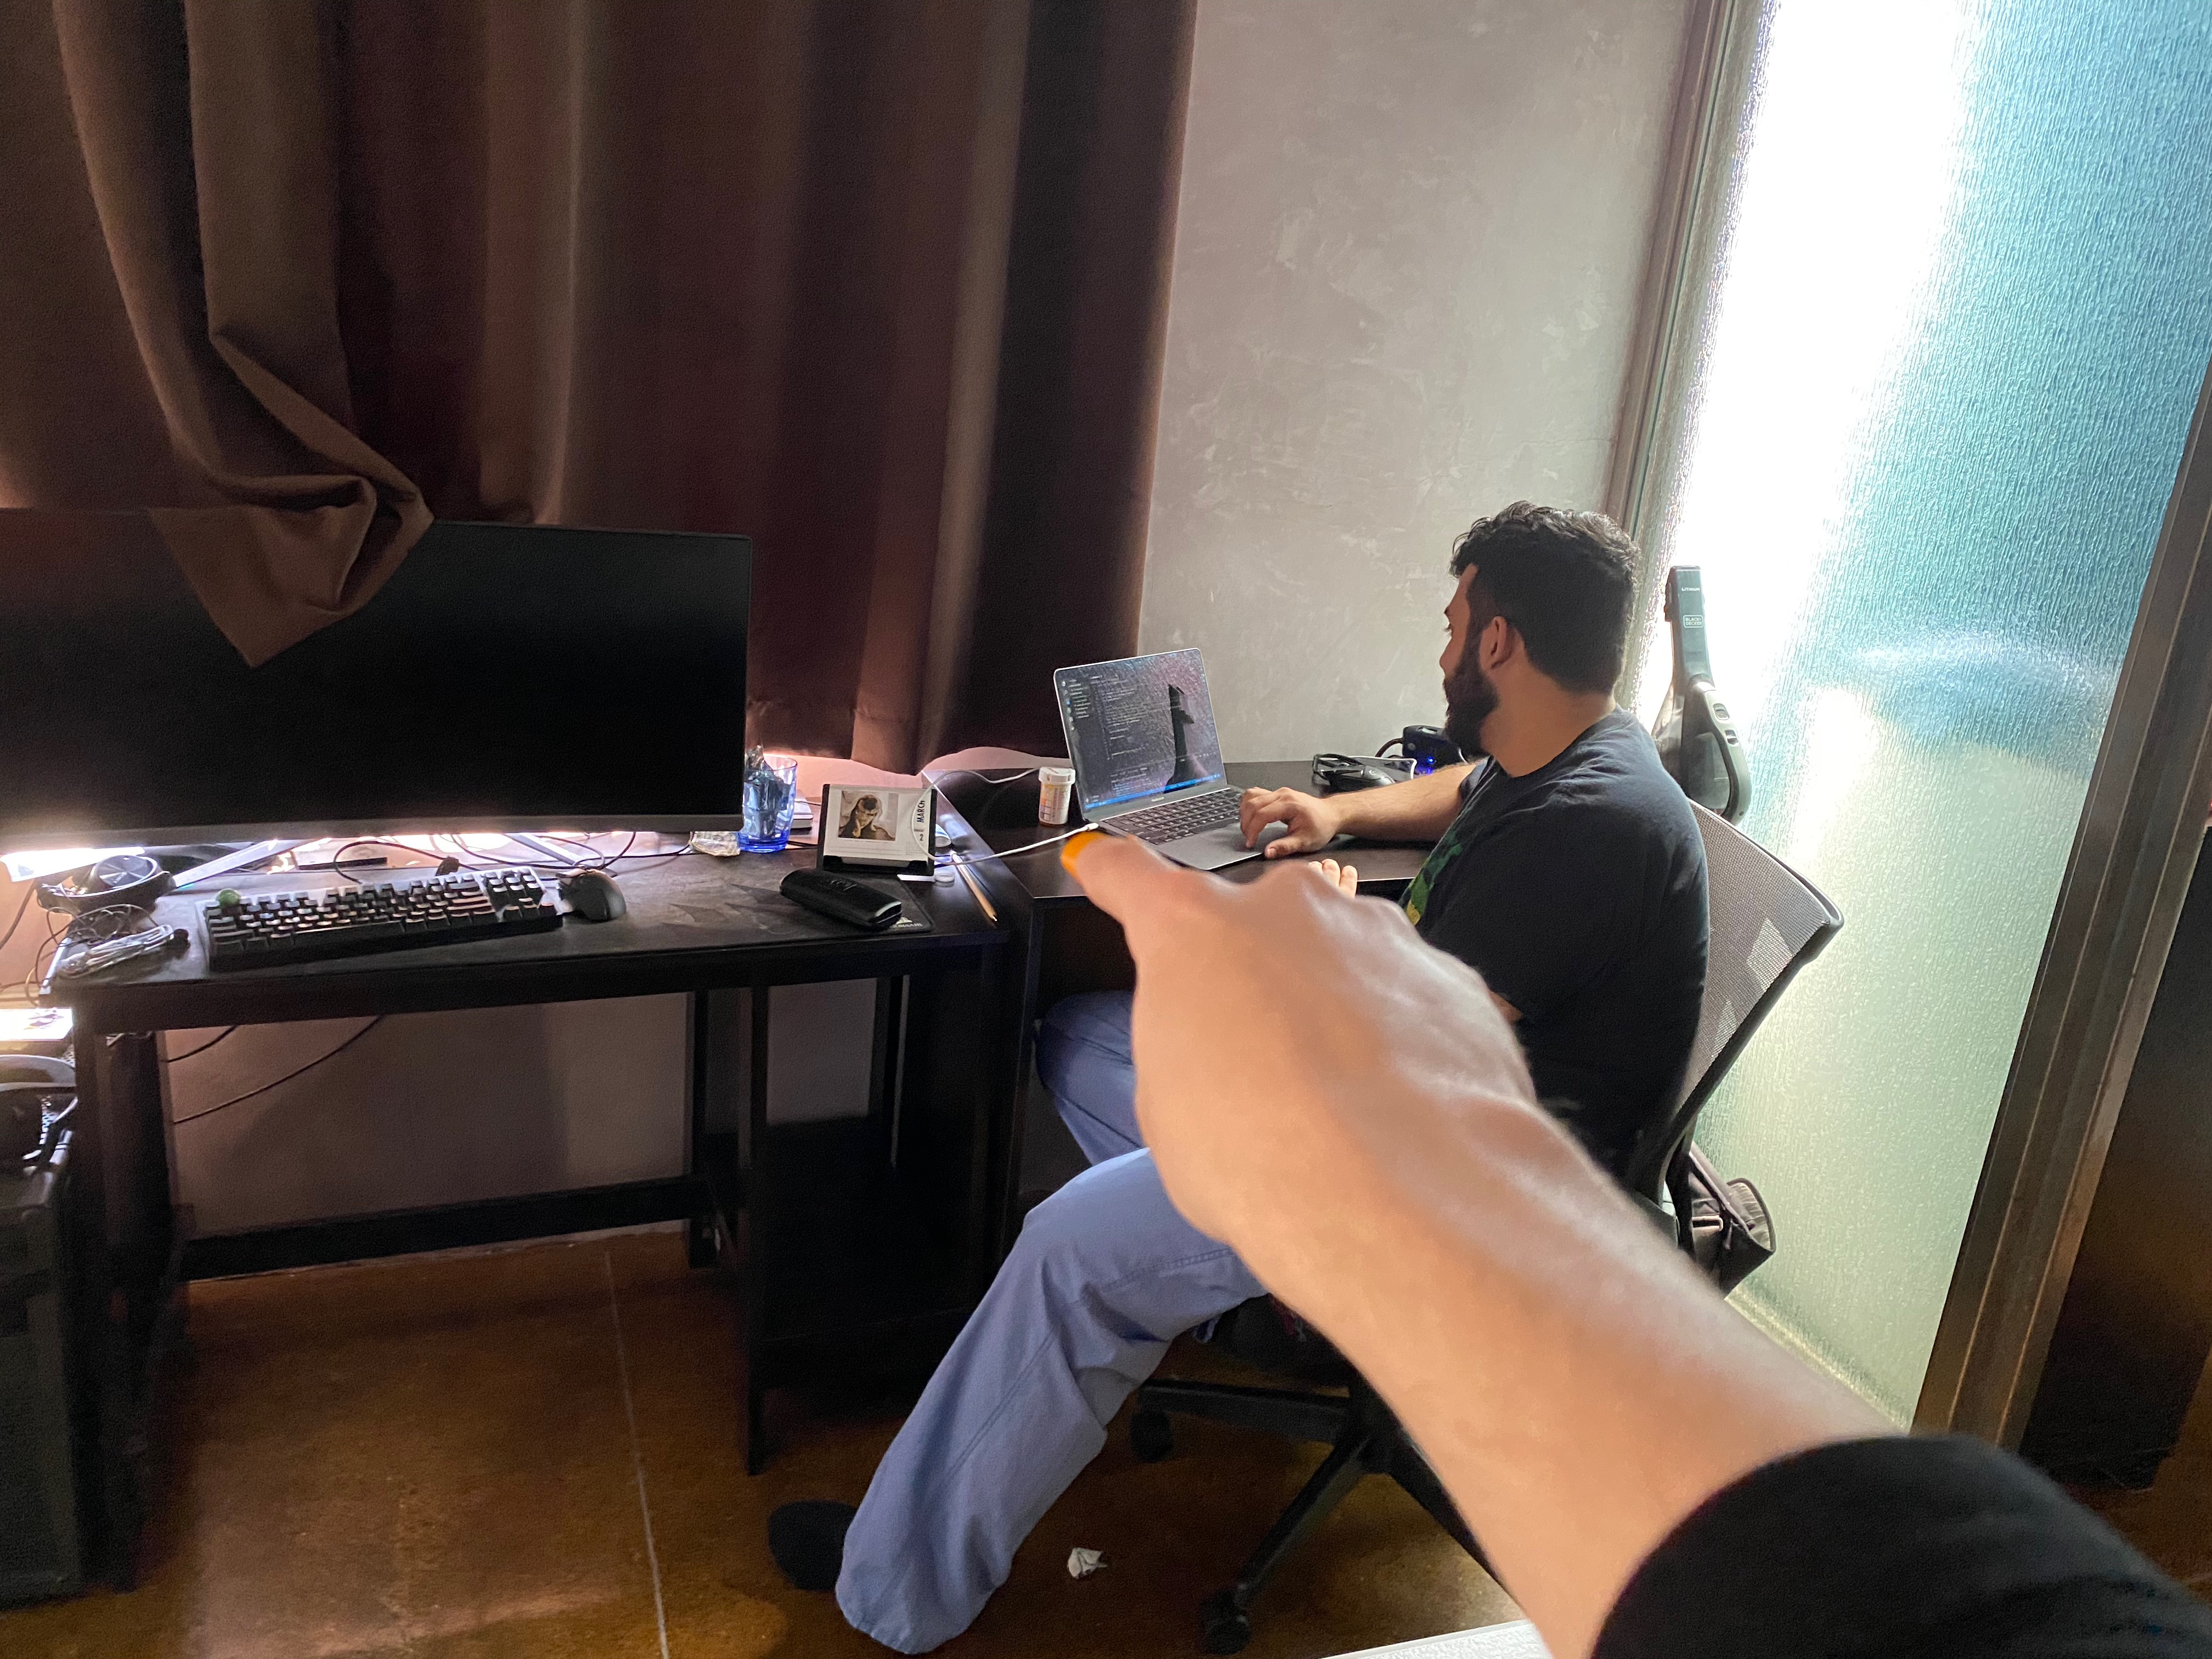fingertip: (1042, 805, 1150, 931)
